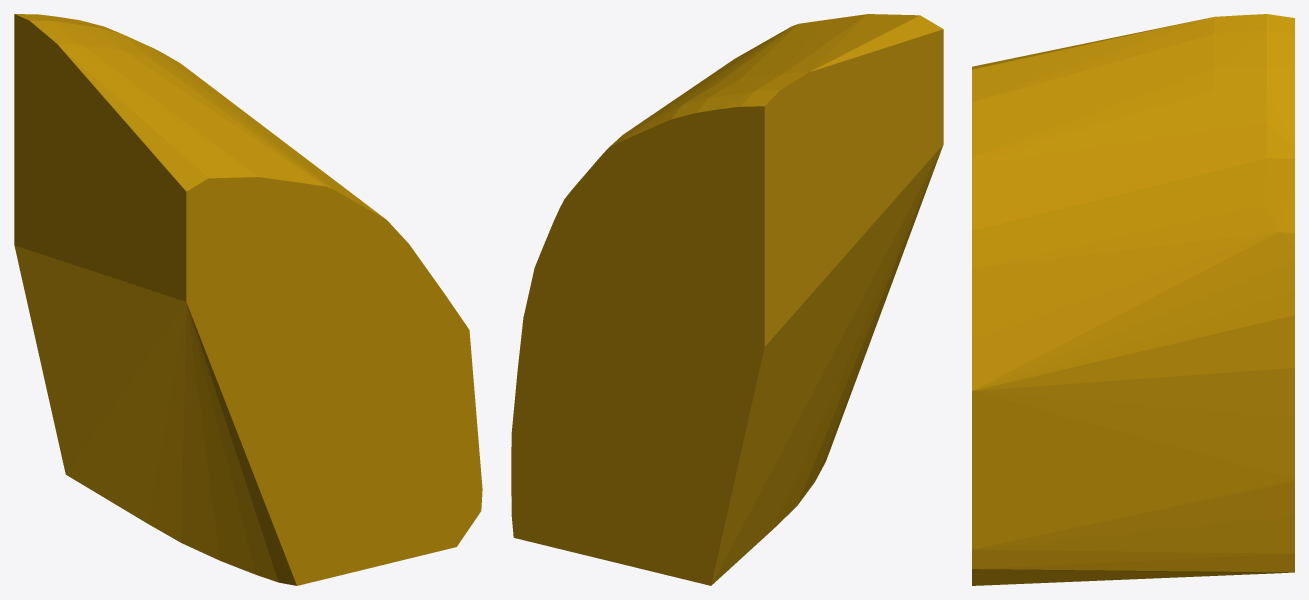
3 views of the same model, side by side, from view 1: azimuth 30°, elevation 25°; view 2: azimuth 150°, elevation 25°; view 3: azimuth 270°, elevation 25° (orthographic). The views are drawn at different scales.
Size of the model in its own units: 0.0195 by 0.03 by 0.0196.
